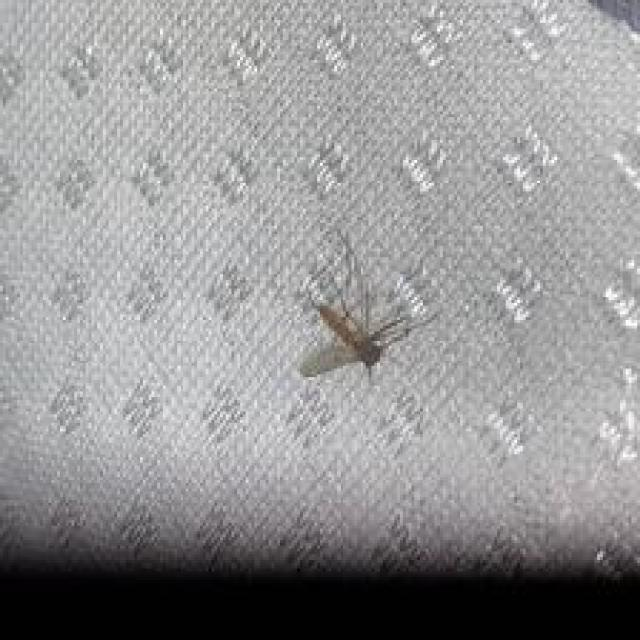Culex: (294, 233, 440, 384)
